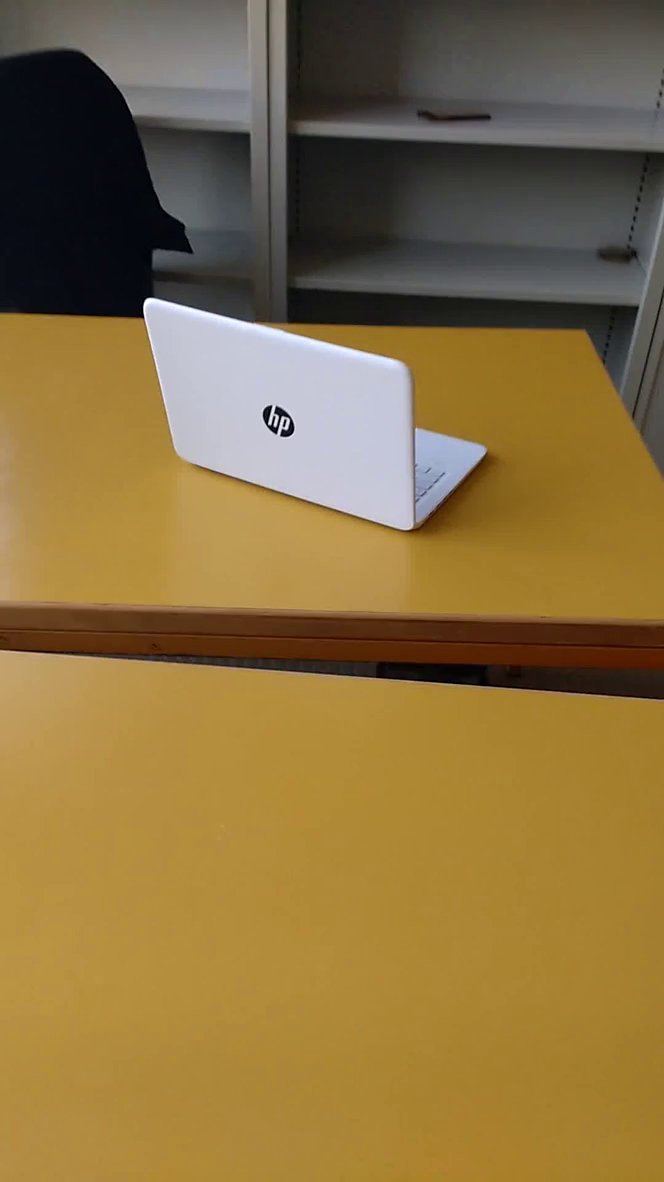laptop: (134, 292, 499, 542)
